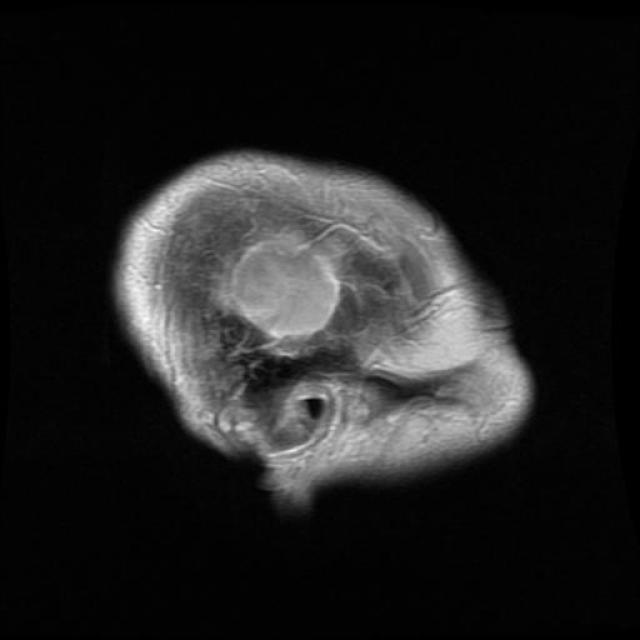meningioma: (234, 240, 339, 340)
